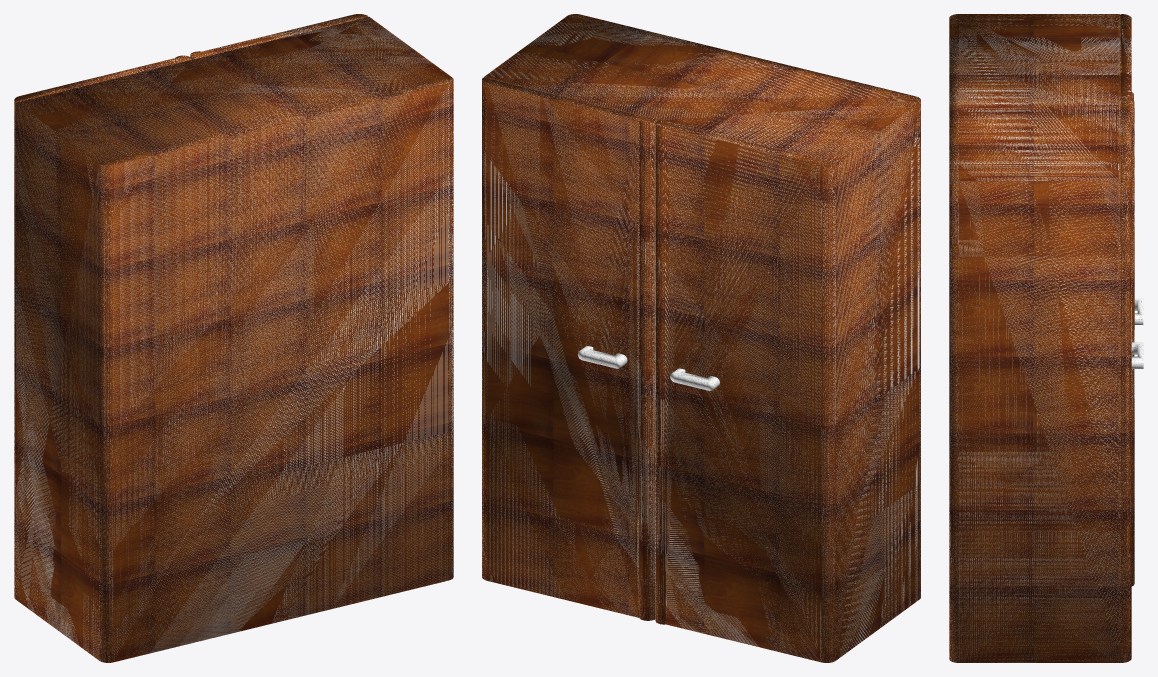
3 views of the same model, side by side, from view 1: azimuth 30°, elevation 25°; view 2: azimuth 150°, elevation 25°; view 3: azimuth 270°, elevation 25° (orthographic). The views are drawn at different scales.
Visible parts, largest first — view 1: mesh1_mesh1-geometry; view 2: mesh1_mesh1-geometry; view 3: mesh1_mesh1-geometry.
Boxes of the visible parts, <box> form: mesh1_mesh1-geometry: <box>14,14,453,662</box>; mesh1_mesh1-geometry: <box>482,14,920,662</box>; mesh1_mesh1-geometry: <box>949,14,1143,662</box>.
Bounding box in the file's own units: 0.5719 × 0.7704 × 0.2817.
